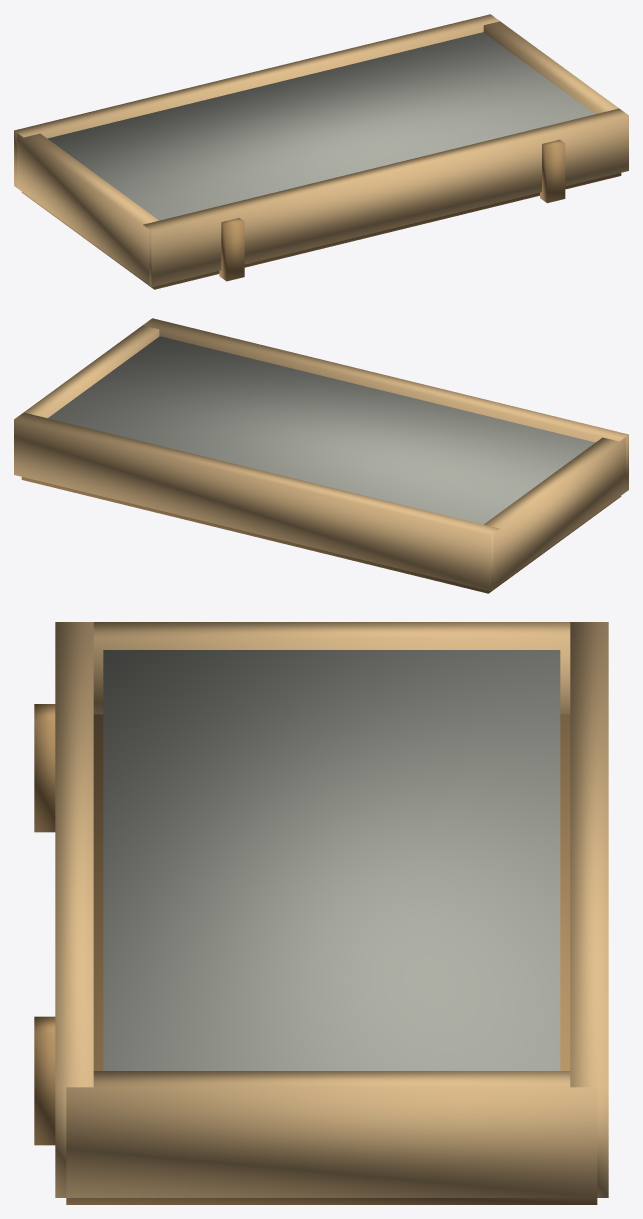
File: material-concrete-form.glb
3 renders of one model, top to bottom at view 1: azimuth 30°, elevation 25°; view 2: azimuth 150°, elevation 25°; view 3: azimuth 270°, elevation 25°, orthographic. The views are drawn at different scales.
Parts seen in each view (by area): view 1: Poured concrete, Long rim, End rim, Long rim.001, End rim.001, Form base, Brace, Brace.001; view 2: Poured concrete, Long rim.001, End rim, Long rim, End rim.001, Form base; view 3: Poured concrete, End rim.001, Long rim, Long rim.001, End rim, Form base, Brace.001, Brace.
Part boxes in pixels (box(x1,y1,x2,y2)): Poured concrete: box(47, 32, 594, 220); Long rim: box(143, 108, 628, 286); End rim: box(16, 133, 158, 284); Long rim.001: box(14, 14, 499, 187); End rim.001: box(483, 21, 618, 114); Form base: box(21, 173, 621, 289); Brace: box(219, 218, 244, 281); Brace.001: box(540, 139, 565, 203); Poured concrete: box(48, 336, 595, 524); Long rim.001: box(14, 412, 499, 590); End rim: box(484, 437, 626, 588); Long rim: box(143, 318, 628, 491); End rim.001: box(24, 325, 159, 418); Form base: box(21, 477, 621, 593); Poured concrete: box(103, 650, 560, 1070); End rim.001: box(66, 1071, 597, 1197); Long rim: box(55, 622, 93, 1197); Long rim.001: box(570, 622, 608, 1197); End rim: box(93, 622, 570, 714); Form base: box(66, 714, 597, 1204); Brace.001: box(34, 1016, 55, 1145); Brace: box(34, 704, 55, 832).
Bounding box in the file's own units: 3.42 × 0.43 × 1.78.
